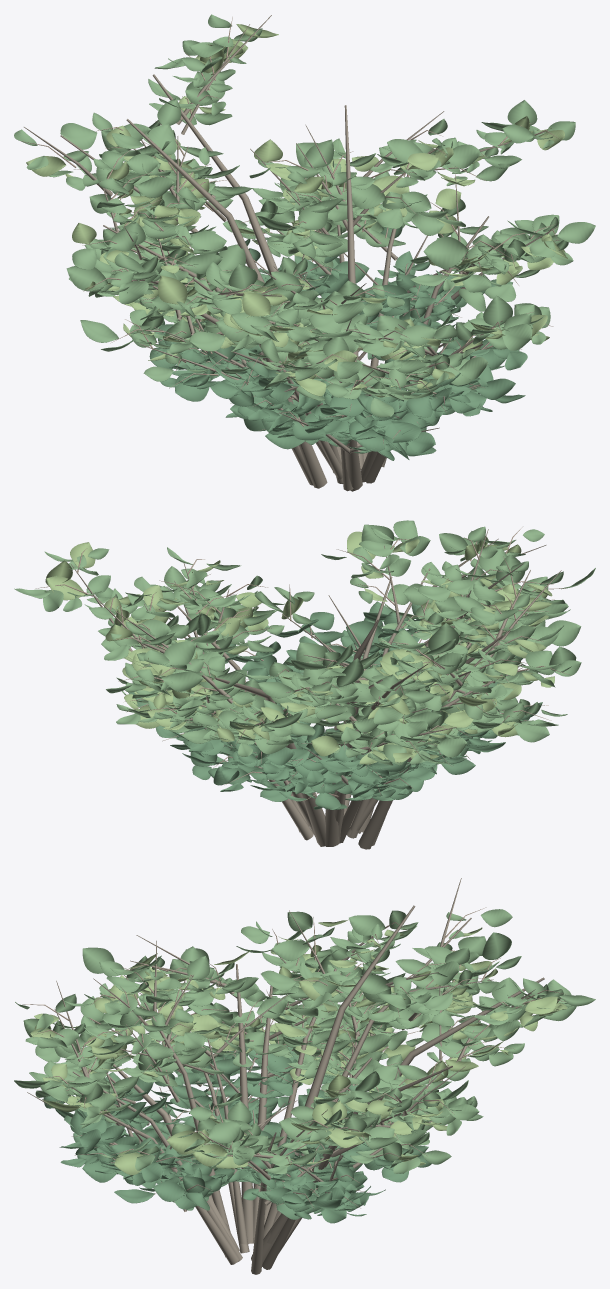
3 renders of one model, top to bottom at view 1: azimuth 30°, elevation 25°; view 2: azimuth 150°, elevation 25°; view 3: azimuth 270°, elevation 25°, orthographic. The views are drawn at different scales.
Visible parts, largest first — view 1: bush_wide; view 2: bush_wide; view 3: bush_wide.
Boxes of the visible parts, left/top/right/bottom form: bush_wide: left=14, top=14, right=595, bottom=491; bush_wide: left=14, top=520, right=595, bottom=849; bush_wide: left=14, top=878, right=595, bottom=1274.
Bounding box in the file's own units: 3.1 × 1.89 × 3.3.
